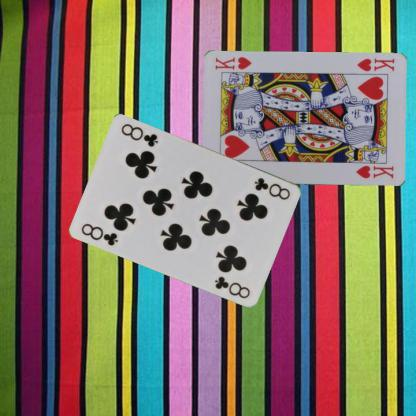8c: (79, 220, 121, 247), (252, 175, 292, 201)
Kh: (354, 56, 395, 73)
